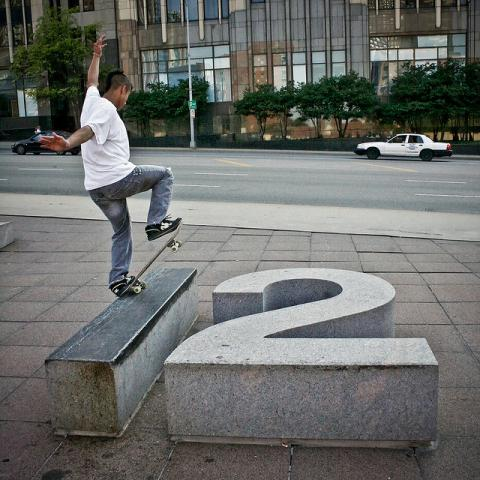car: (352, 133, 453, 161), (15, 132, 69, 154)
